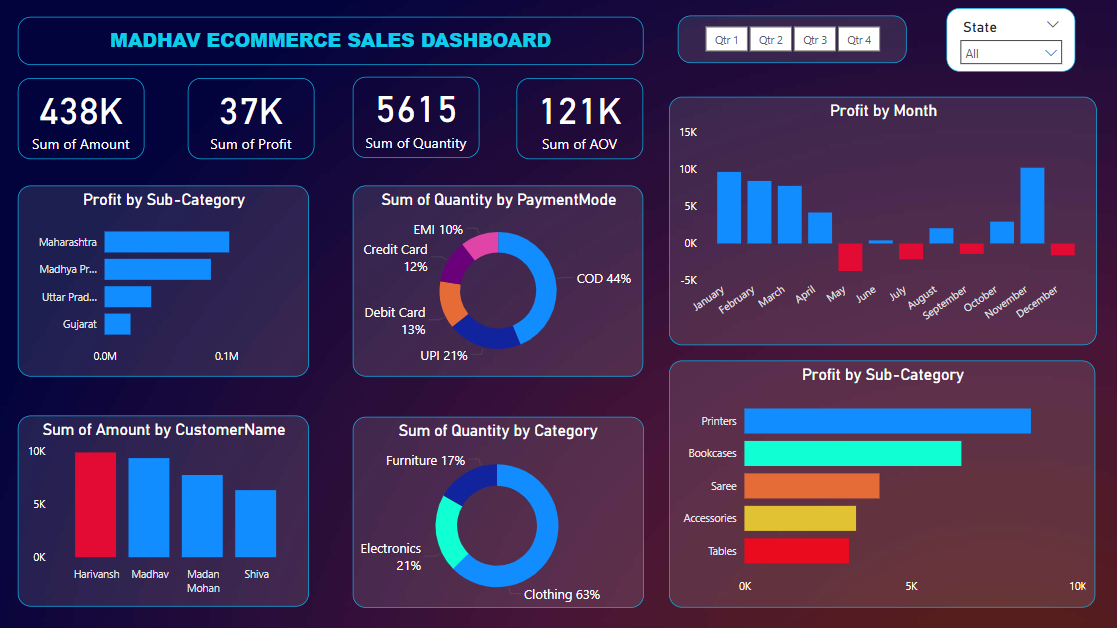

The dashboard page shown, as its layout file describes it:
{"tool":"powerbi","page":{"name":"Page 1","canvas":[1280,720],"ordinal":0},"visuals":[{"type":"textbox","box":[18.9,20,666.7,54.4],"z":0},{"type":"card","fields":{"Values":["Details.Amount"]},"box":[21,91,145,92.5],"z":1000},{"type":"card","fields":{"Values":["Details.Profit"]},"box":[216.2,91.2,145,92.5],"z":2000},{"type":"card","fields":{"Values":["Details.Quantity"]},"box":[403.8,90,145,92.5],"z":3000},{"type":"columnChart","title":"Profit by Month","fields":{"Category":["Orders.Order Date.Variation.Date Hierarchy.Month"],"Y":["Details.Profit"]},"box":[765,112.5,488.8,283.8],"z":4000},{"type":"barChart","title":"Profit by Sub-Category","fields":{"Category":["Details.Sub-Category"],"Y":["Details.Profit"]},"box":[766.2,413.8,487.5,282.5],"z":5000},{"type":"donutChart","fields":{"Category":["Details.Category"],"Y":["Details.Quantity"]},"box":[403.8,478.8,332.5,218],"z":6000},{"type":"donutChart","fields":{"Y":["Details.Quantity"],"Category":["Details.PaymentMode"]},"box":[403.8,213.8,332,218.8],"z":7000},{"type":"card","fields":{"Values":["Details.AOV"]},"box":[591.2,91.2,145,92.5],"z":8000},{"type":"barChart","title":"Profit by Sub-Category","fields":{"Category":["Orders.State"],"Y":["Details.Amount"]},"box":[21.2,213.8,332.5,218.8],"z":9000},{"type":"columnChart","fields":{"Category":["Orders.CustomerName"],"Y":["Details.Amount"]},"box":[21.2,477.5,332.5,218.8],"z":10000},{"type":"slicer","fields":{"Values":["Orders.Order Date.Variation.Date Hierarchy.Quarter"]},"box":[775,20,261.2,54],"z":11000},{"type":"slicer","fields":{"Values":["Orders.State"]},"box":[1082.5,11.2,147.5,72.5],"z":11001}]}

Visuals, with their boxes in screenshot pixels (x1, y1, x2, y2), scaled from the page's 1280x720 canvas onto the 1117x628 screenshot:
textbox: <region>16, 17, 598, 65</region>
card - Details.Amount: <region>18, 79, 145, 160</region>
card - Details.Profit: <region>189, 80, 315, 160</region>
card - Details.Quantity: <region>352, 78, 479, 159</region>
"Profit by Month" columnChart: <region>668, 98, 1094, 346</region>
"Profit by Sub-Category" barChart: <region>669, 361, 1094, 607</region>
donutChart - Details.Category x Details.Quantity: <region>352, 418, 643, 608</region>
donutChart - Details.Quantity x Details.PaymentMode: <region>352, 186, 642, 377</region>
card - Details.AOV: <region>516, 80, 642, 160</region>
"Profit by Sub-Category" barChart: <region>19, 186, 309, 377</region>
columnChart - Orders.CustomerName x Details.Amount: <region>19, 416, 309, 607</region>
slicer - Orders.Order Date.Variation.Date Hierarchy.Quarter: <region>676, 17, 904, 65</region>
slicer - Orders.State: <region>945, 10, 1073, 73</region>
